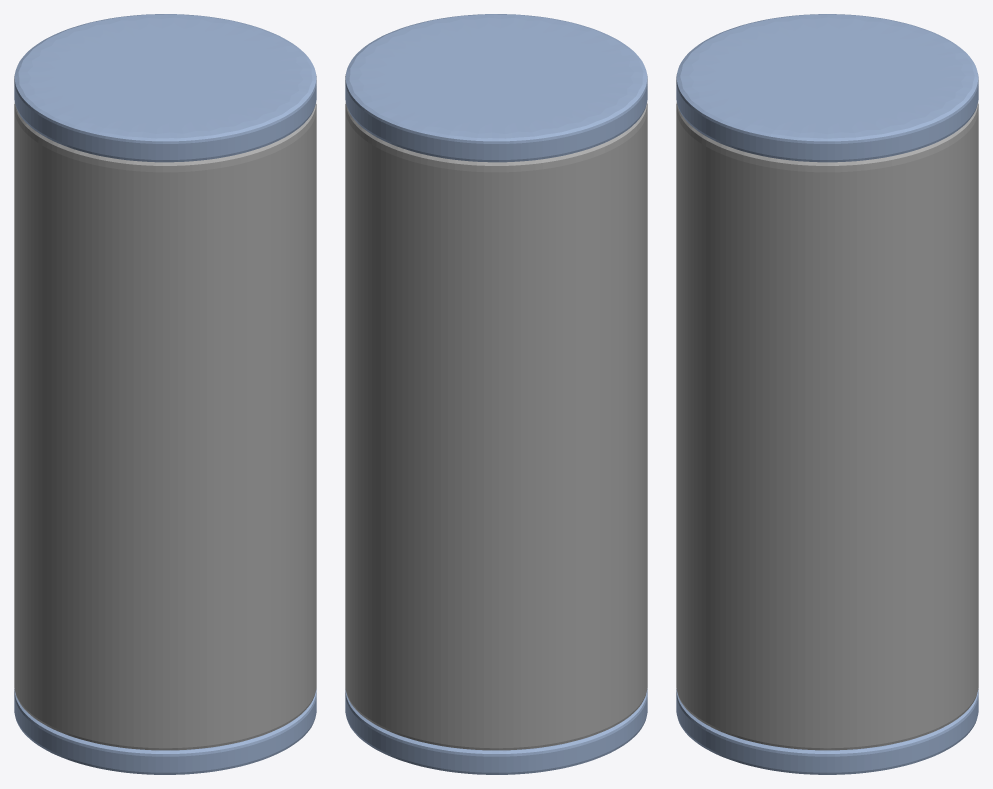
File: container.fbx
3 renders of one model, left to right at view 1: azimuth 30°, elevation 25°; view 2: azimuth 150°, elevation 25°; view 3: azimuth 270°, elevation 25°, orthographic.
Parts seen in each view (by area): view 1: glass, bottom.002; view 2: glass, bottom.002; view 3: glass, bottom.002.
Boxes of the visible parts, x1,y1,x2,y2 form: glass: (14,102,316,750); bottom.002: (14,14,316,774); glass: (345,102,647,750); bottom.002: (345,14,647,774); glass: (676,102,978,750); bottom.002: (676,14,978,774).
Bounding box in the file's own units: 199 × 462 × 199.
